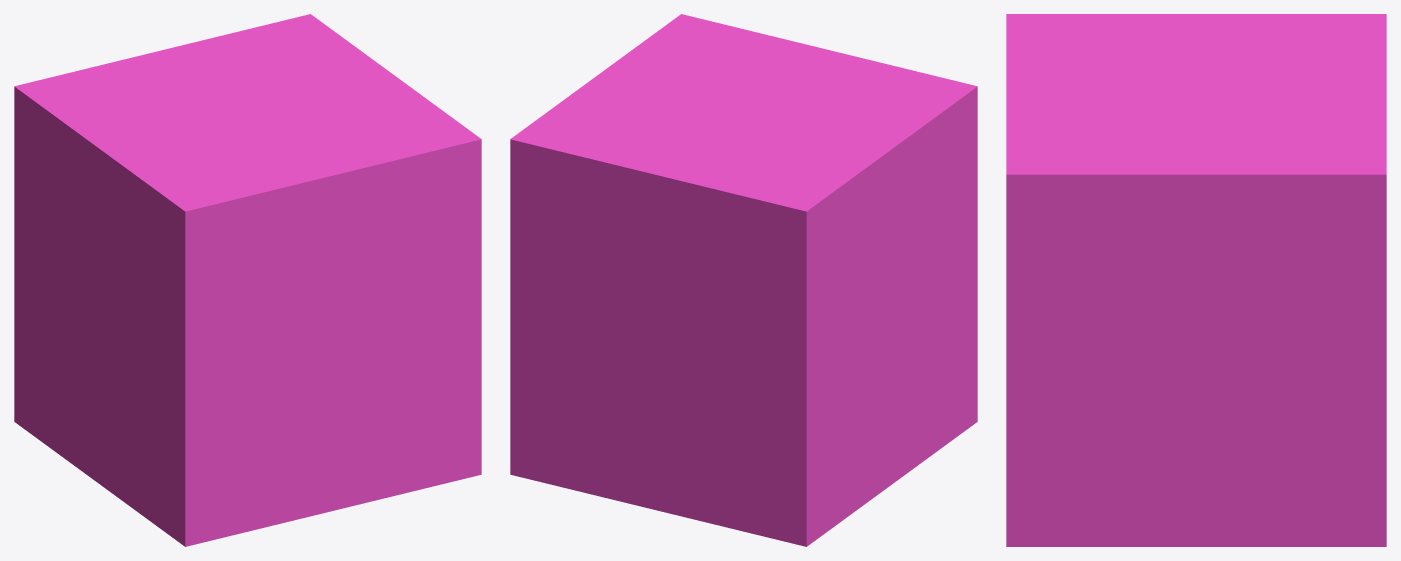
The model's file is wind_blower_lvl08.glb.
3 renders of one model, left to right at view 1: azimuth 30°, elevation 25°; view 2: azimuth 150°, elevation 25°; view 3: azimuth 270°, elevation 25°, orthographic. The views are drawn at different scales.
Parts seen in each view (by area): view 1: COL_BOX_BODY; view 2: COL_BOX_BODY; view 3: COL_BOX_BODY.
Part boxes in pixels (<box>): COL_BOX_BODY: <box>14,14,481,546</box>; COL_BOX_BODY: <box>510,14,977,546</box>; COL_BOX_BODY: <box>1006,14,1386,546</box>.
Bounding box in the file's own units: 1.36 × 1.47 × 1.36.
